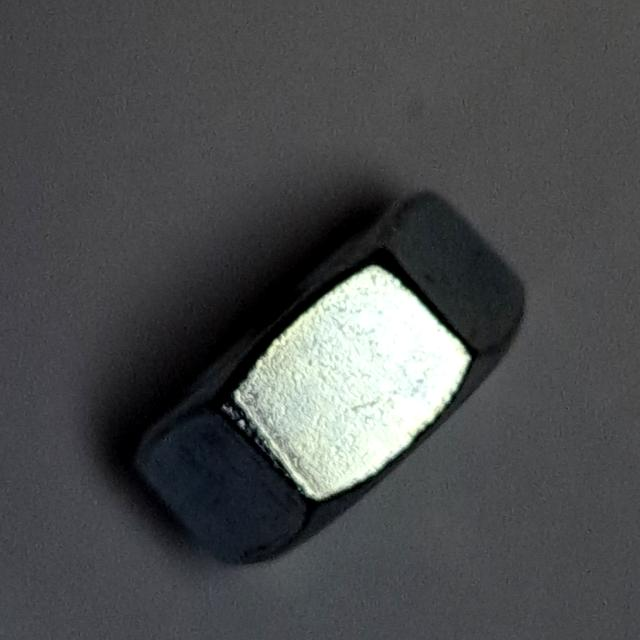Side_Excellent: (121, 175, 536, 579)
